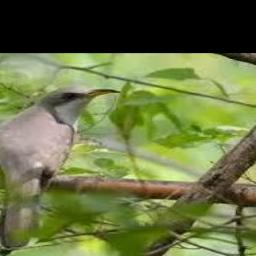Cuckoo: (0, 86, 120, 248)
